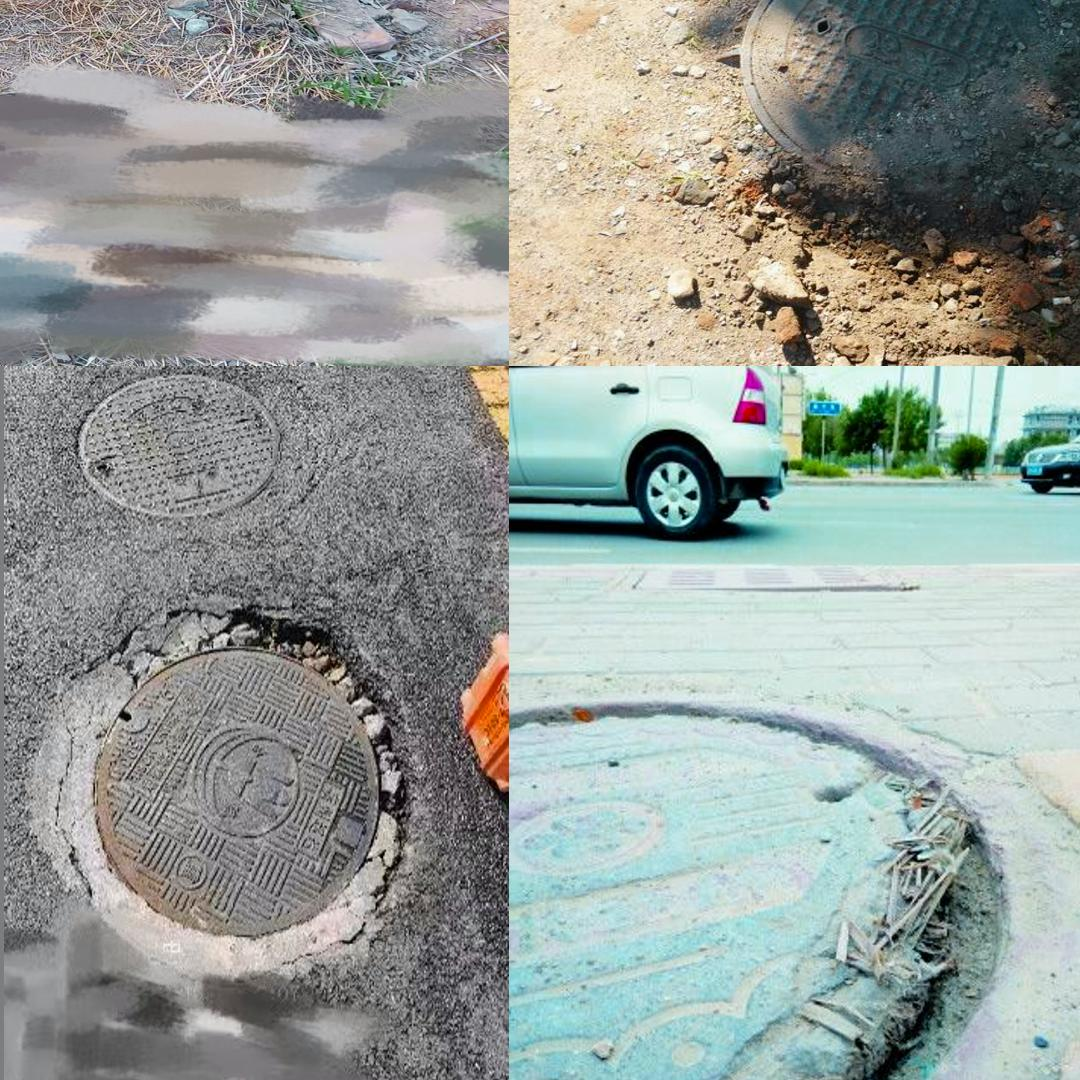circle: (519, 674, 1080, 1080), (35, 608, 408, 993), (658, 0, 1080, 225)
good: (72, 372, 284, 519)
